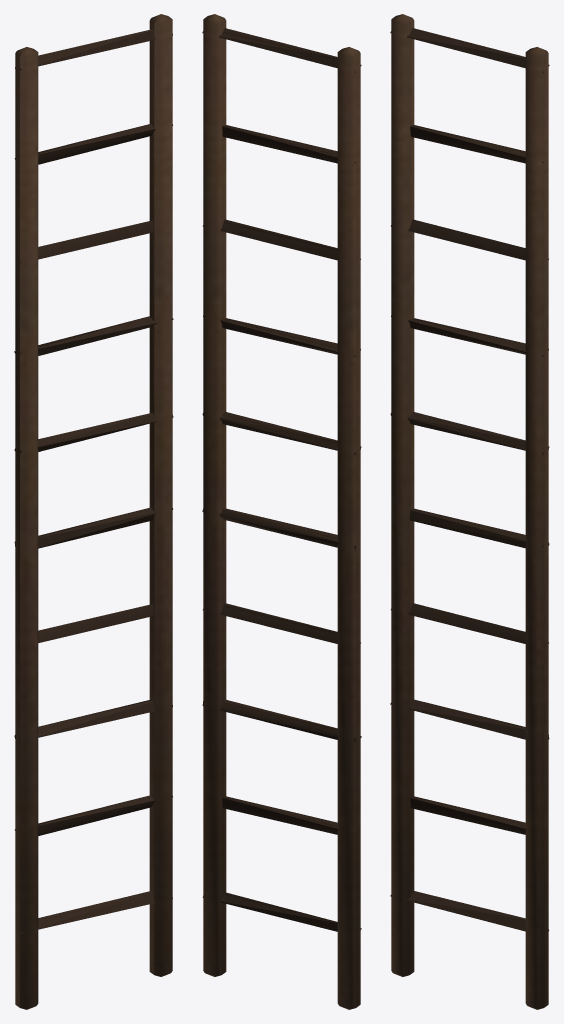
Rendered from ladder_lod2.glb.
3 renders of one model, left to right at view 1: azimuth 30°, elevation 25°; view 2: azimuth 150°, elevation 25°; view 3: azimuth 330°, elevation 25°, orthographic.
Visible parts, largest first — view 1: ladder; view 2: ladder; view 3: ladder.
Boxes of the visible parts, left/top/right/bottom form: ladder: left=14, top=14, right=173, bottom=1009; ladder: left=202, top=14, right=361, bottom=1009; ladder: left=390, top=14, right=549, bottom=1009.
Size of the model in its own units: 0.5 by 3.01 by 0.05.
1 material, 1 textured.
